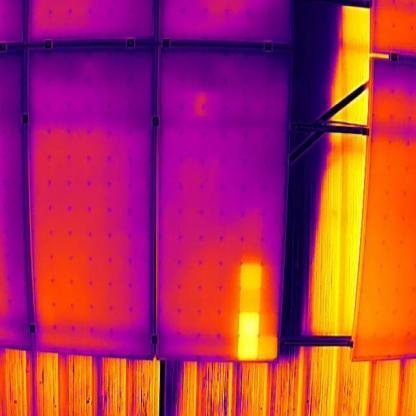anomaly: (235, 257, 279, 361)
